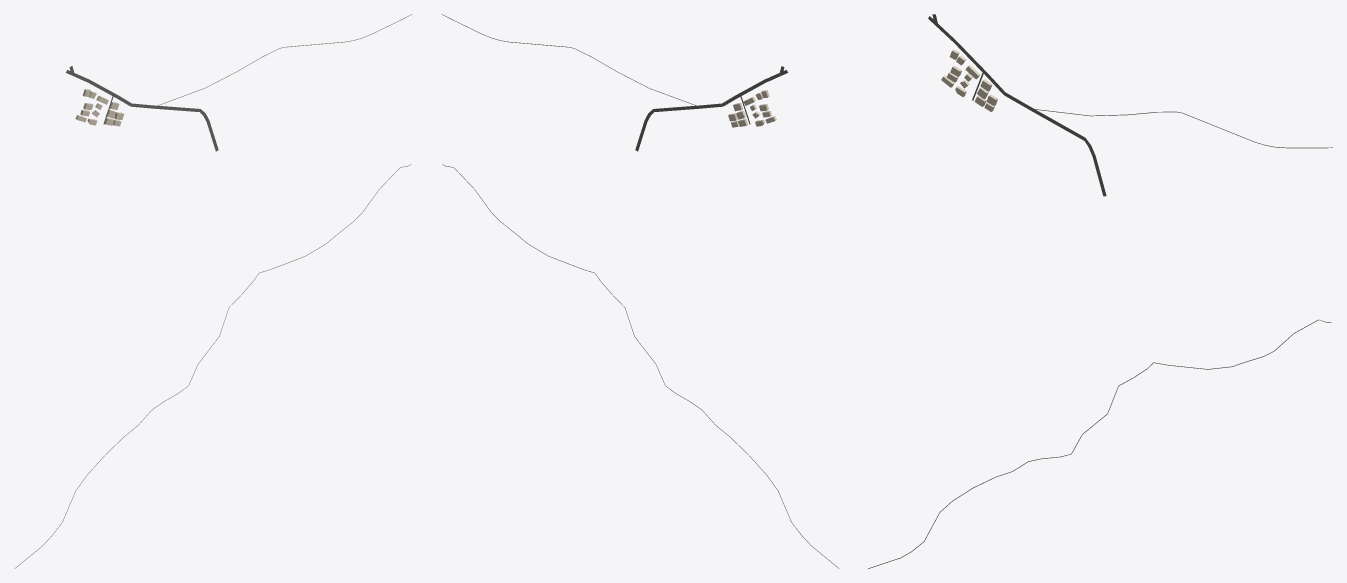
The model's file is historic-palestine-09_30_3512_3248.glb.
3 renders of one model, left to right at view 1: azimuth 30°, elevation 25°; view 2: azimuth 150°, elevation 25°; view 3: azimuth 330°, elevation 25°, orthographic. The views are drawn at different scales.
Parts seen in each view (by area): view 1: Road 6524.001, Road .001; view 2: Road 6524.001, Road .001; view 3: Road 6524.001, Road .001.
Boxes of the visible parts, x1,y1,x2,y2 form: Road 6524.001: (72,73,218,151); Road .001: (14,164,411,568); Road 6524.001: (635,73,781,151); Road .001: (442,164,839,568); Road 6524.001: (935,23,1106,196); Road .001: (868,319,1331,568).
Size of the model in its own units: 1064 by 1250 by 8.7.
